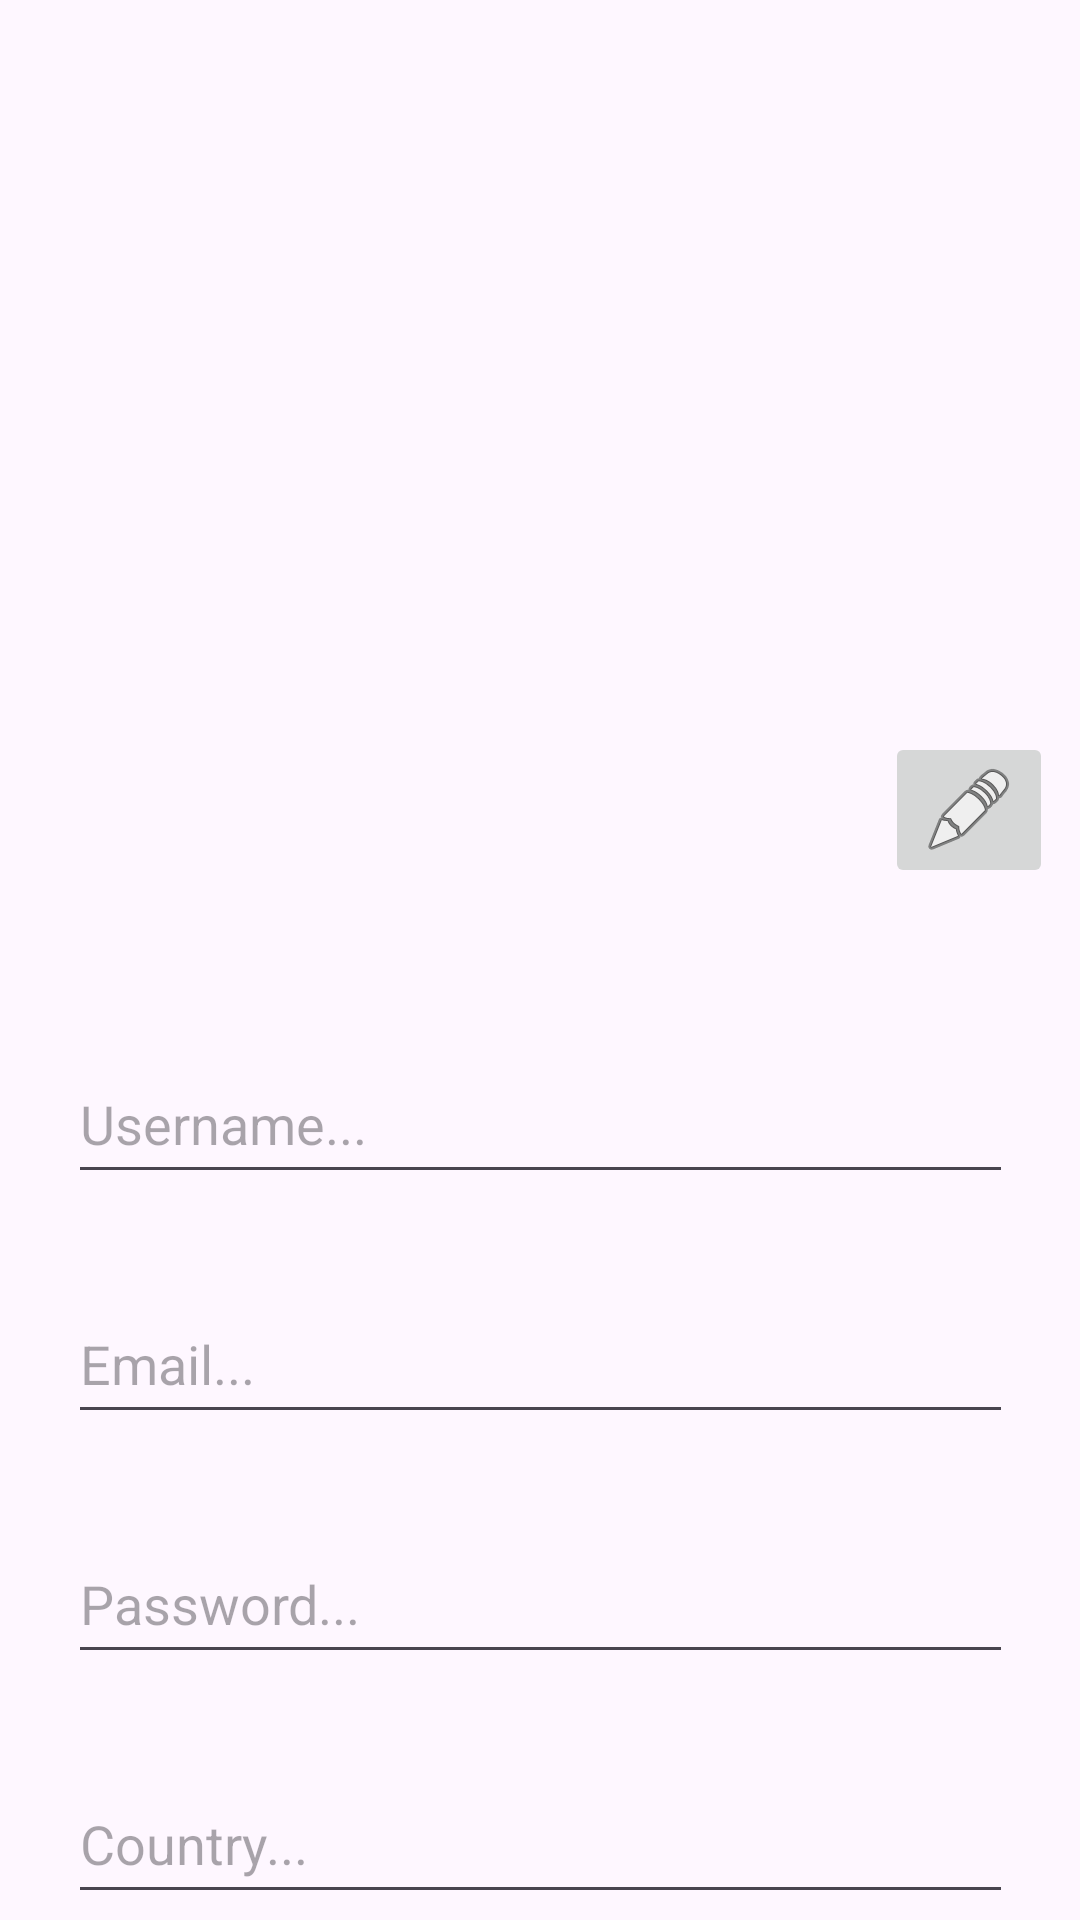

Named icons in this screenshot (1080px x 1920px) and their bounding boxes, (x1, y1, x2, y2):
edit: (897, 750, 1041, 870)
